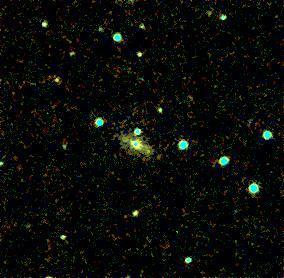star: (135, 137, 165, 167)
